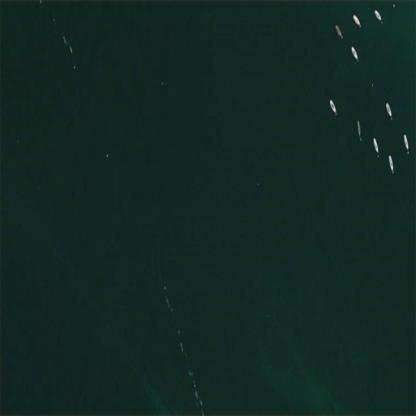ship: (379, 96, 399, 123), (321, 93, 341, 118), (398, 128, 414, 158), (368, 132, 382, 162), (351, 113, 364, 145), (327, 19, 345, 42), (369, 4, 386, 28), (345, 42, 363, 64), (384, 151, 398, 179), (349, 6, 364, 31)
